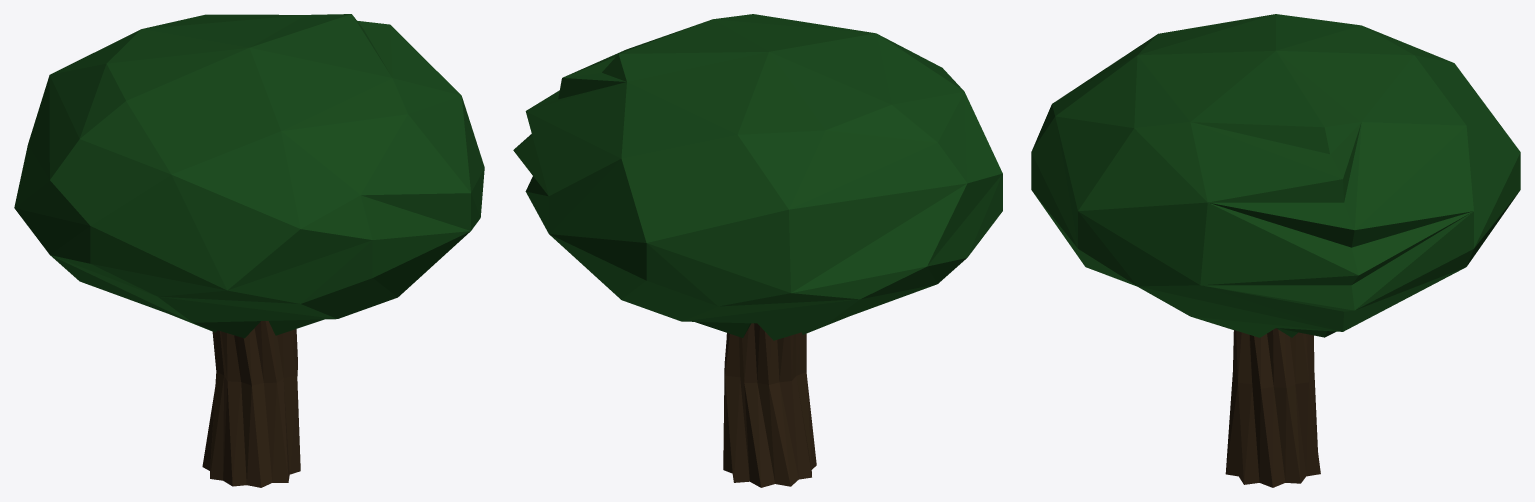
File: ShortFatTree_Green.fbx
3 views of the same model, side by side, from view 1: azimuth 30°, elevation 25°; view 2: azimuth 150°, elevation 25°; view 3: azimuth 270°, elevation 25° (orthographic).
Visible parts, largest first — view 1: Trees:pSphere3, Trees:pCylinder3; view 2: Trees:pSphere3, Trees:pCylinder3; view 3: Trees:pSphere3, Trees:pCylinder3.
Part boxes in pixels (left/top/right/bottom): Trees:pSphere3: left=14, top=14, right=484, bottom=338; Trees:pCylinder3: left=202, top=321, right=300, bottom=487; Trees:pSphere3: left=513, top=14, right=1002, bottom=340; Trees:pCylinder3: left=723, top=323, right=816, bottom=487; Trees:pSphere3: left=1031, top=14, right=1520, bottom=337; Trees:pCylinder3: left=1225, top=328, right=1320, bottom=487.
Size of the model in its own units: 0.2629 by 0.2542 by 0.2702.
